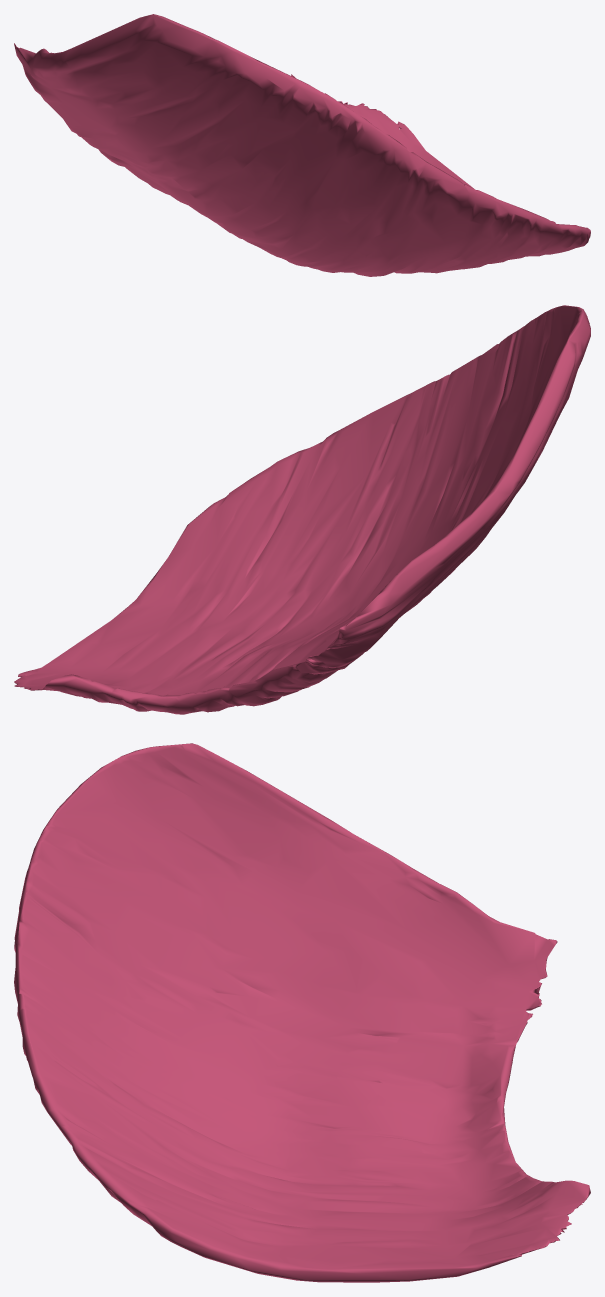
3 renders of one model, top to bottom at view 1: azimuth 30°, elevation 25°; view 2: azimuth 150°, elevation 25°; view 3: azimuth 270°, elevation 25°, orthographic. The views are drawn at different scales.
Visible parts, largest first — view 1: 右侧额肌; view 2: 右侧额肌; view 3: 右侧额肌.
Boxes of the visible parts, <box> form: 右侧额肌: <box>14,14,590,276</box>; 右侧额肌: <box>14,305,590,714</box>; 右侧额肌: <box>14,743,590,1282</box>.
Bounding box in the file's own units: 0.0861 × 0.0691 × 0.1033.
